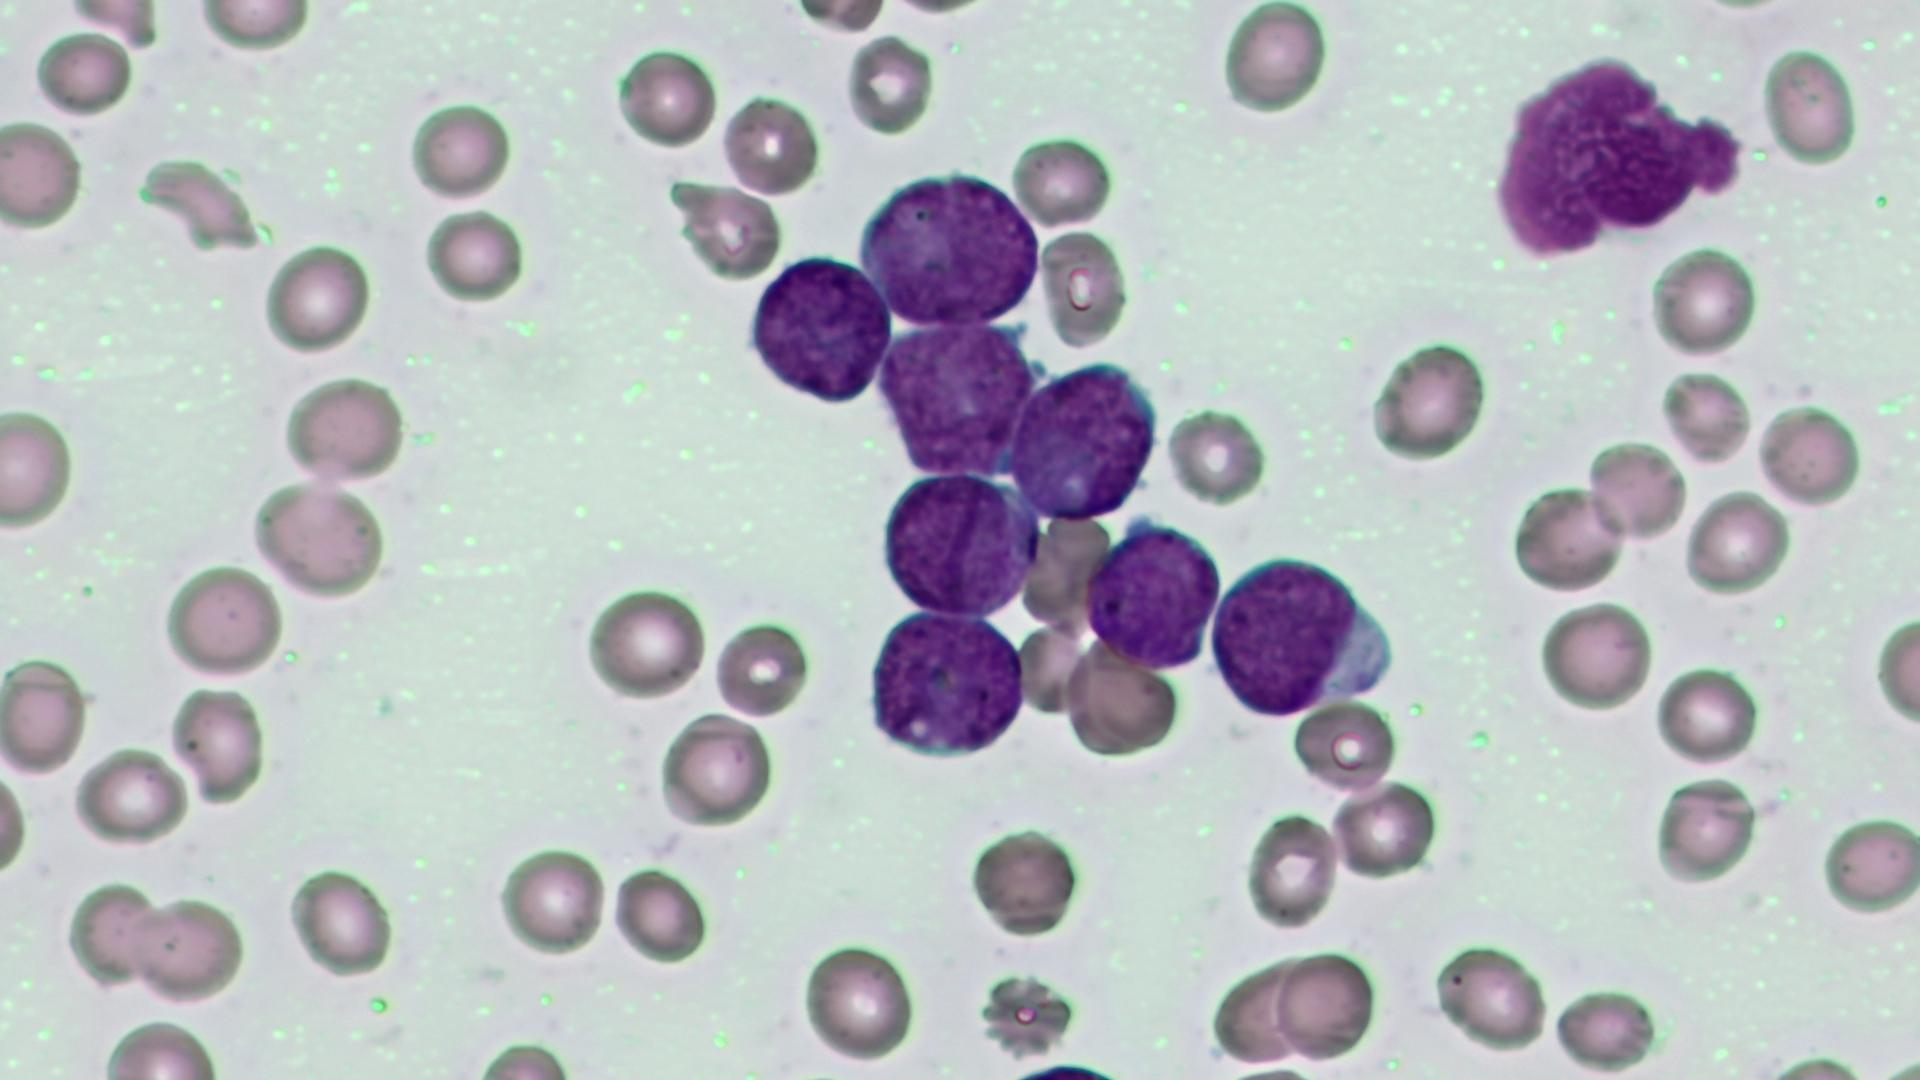RBC: (1006, 357, 1160, 525), (1083, 522, 1228, 673), (251, 477, 386, 603), (162, 556, 286, 684), (796, 935, 918, 1065), (580, 582, 707, 703), (1431, 934, 1552, 1054), (1536, 595, 1656, 713), (963, 822, 1084, 939), (1510, 476, 1629, 595), (128, 891, 247, 1010), (658, 709, 773, 831), (1062, 641, 1178, 758), (1646, 241, 1756, 363), (1760, 41, 1862, 171), (1680, 484, 1793, 599), (495, 841, 607, 957), (285, 862, 396, 980), (166, 680, 268, 808), (265, 239, 373, 356), (1244, 807, 1342, 934), (1270, 945, 1375, 1063), (1753, 400, 1863, 509), (70, 744, 186, 848), (1160, 404, 1278, 506), (1654, 775, 1764, 884), (1007, 128, 1120, 235), (1327, 778, 1440, 884), (612, 44, 717, 157), (406, 98, 514, 207), (717, 90, 824, 200), (1038, 225, 1130, 352), (1, 651, 90, 781), (1652, 662, 1760, 767), (1288, 698, 1402, 798), (67, 877, 162, 994), (611, 860, 709, 969), (843, 32, 936, 142), (0, 113, 88, 231), (29, 26, 138, 117), (0, 405, 74, 530), (98, 1014, 223, 1077), (1873, 604, 1920, 742), (0, 758, 30, 893)
WBC: (1481, 49, 1742, 266), (1207, 545, 1402, 724), (862, 167, 1042, 328), (860, 604, 1033, 766), (1007, 353, 1163, 521), (742, 248, 895, 409), (876, 473, 1036, 622), (1080, 522, 1222, 673)
